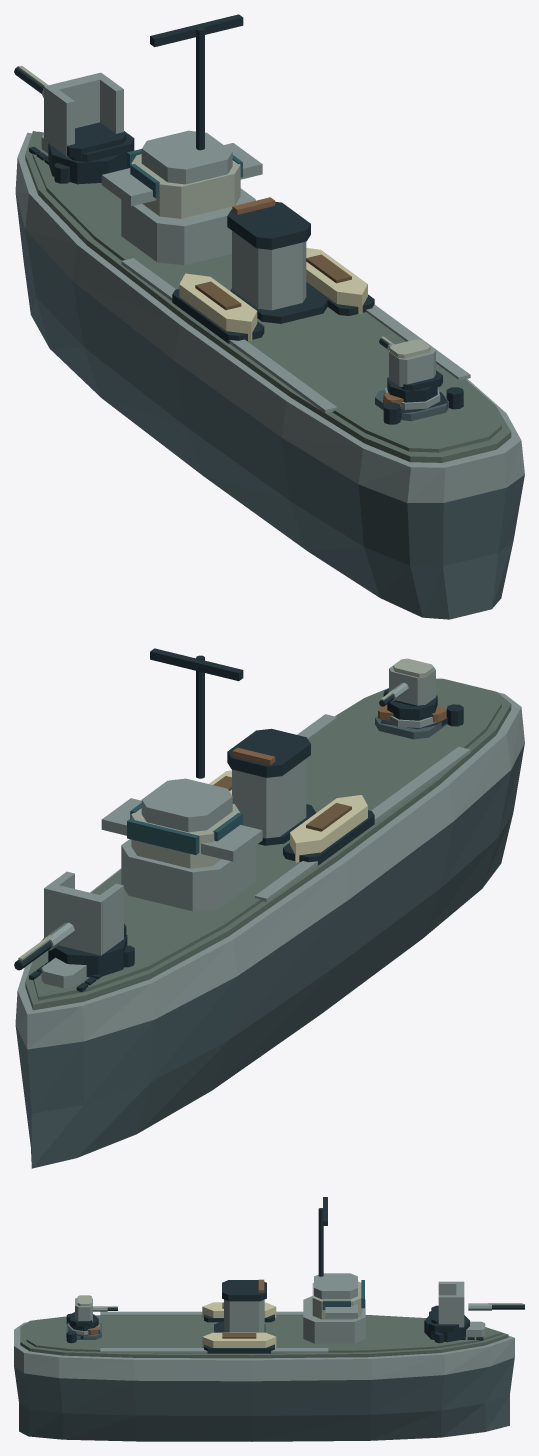
File: historic-sackville.glb
The picture shows the model from 3 angles, top to bottom: view 1: azimuth 30°, elevation 25°; view 2: azimuth 150°, elevation 25°; view 3: azimuth 270°, elevation 25°; orthographic projection. The views are drawn at different scales.
Parts seen in each view (by area): view 1: historic-sackville-historic-sackville-geometry, historic-sackville-patrol-wheelhouse.001-geometry, historic-sackville-historic_funnel_0.058-geometry, historic-sackville-turret_main_0.047-geometry, historic-sackville-turret_aa_aa-port.059-geometry, historic-sackville-part_aa-port.059-geometry; view 2: historic-sackville-historic-sackville-geometry, historic-sackville-patrol-wheelhouse.001-geometry, historic-sackville-historic_funnel_0.058-geometry, historic-sackville-turret_main_0.047-geometry, historic-sackville-turret_aa_aa-port.059-geometry, historic-sackville-part_aa-port.059-geometry; view 3: historic-sackville-historic-sackville-geometry, historic-sackville-patrol-wheelhouse.001-geometry, historic-sackville-turret_main_0.047-geometry, historic-sackville-historic_funnel_0.058-geometry, historic-sackville-turret_aa_aa-port.059-geometry.
Part boxes in pixels (x1=…): historic-sackville-historic-sackville-geometry: x1=15, y1=131, x2=524, y2=619; historic-sackville-patrol-wheelhouse.001-geometry: x1=101, y1=14, x2=262, y2=265; historic-sackville-historic_funnel_0.058-geometry: x1=227, y1=197, x2=328, y2=323; historic-sackville-turret_main_0.047-geometry: x1=14, y1=66, x2=134, y2=184; historic-sackville-turret_aa_aa-port.059-geometry: x1=379, y1=336, x2=442, y2=402; historic-sackville-part_aa-port.059-geometry: x1=375, y1=387, x2=448, y2=421; historic-sackville-historic-sackville-geometry: x1=15, y1=678, x2=524, y2=1168; historic-sackville-patrol-wheelhouse.001-geometry: x1=101, y1=648, x2=262, y2=911; historic-sackville-historic_funnel_0.058-geometry: x1=227, y1=728, x2=315, y2=845; historic-sackville-turret_main_0.047-geometry: x1=14, y1=871, x2=127, y2=977; historic-sackville-turret_aa_aa-port.059-geometry: x1=379, y1=658, x2=437, y2=720; historic-sackville-part_aa-port.059-geometry: x1=375, y1=715, x2=447, y2=739; historic-sackville-historic-sackville-geometry: x1=14, y1=1302, x2=514, y2=1441; historic-sackville-patrol-wheelhouse.001-geometry: x1=303, y1=1197, x2=365, y2=1343; historic-sackville-turret_main_0.047-geometry: x1=424, y1=1281, x2=524, y2=1342; historic-sackville-historic_funnel_0.058-geometry: x1=214, y1=1279, x2=266, y2=1332; historic-sackville-turret_aa_aa-port.059-geometry: x1=69, y1=1295, x2=117, y2=1331.
Bounding box in the file's own units: 0.7353 × 1.55 × 3.32.
